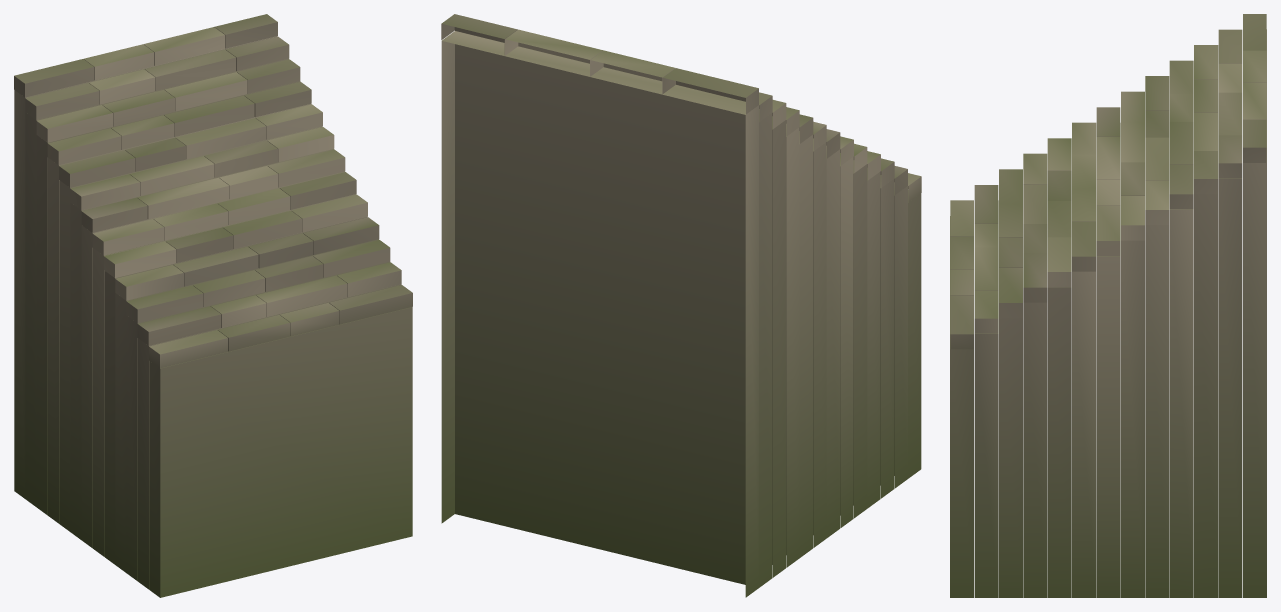
The model's file is sanctuary_stair_mid.glb.
The picture shows the model from 3 angles, left to right: view 1: azimuth 30°, elevation 25°; view 2: azimuth 150°, elevation 25°; view 3: azimuth 270°, elevation 25°; orthographic projection. The views are drawn at different scales.
Visible parts, largest first — view 1: sanctuary_stair_mid; view 2: sanctuary_stair_mid; view 3: sanctuary_stair_mid.
Part boxes in pixels (x1,y1,x2,y2): sanctuary_stair_mid: (14, 14, 412, 597); sanctuary_stair_mid: (441, 14, 921, 597); sanctuary_stair_mid: (950, 14, 1266, 597).
Bounding box in the file's own units: 18.47 × 28.98 × 18.48.
